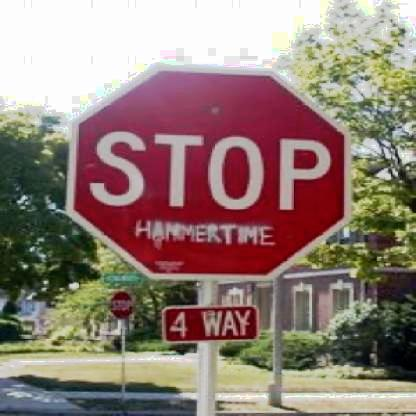Stop Sign: (64, 49, 354, 283)
